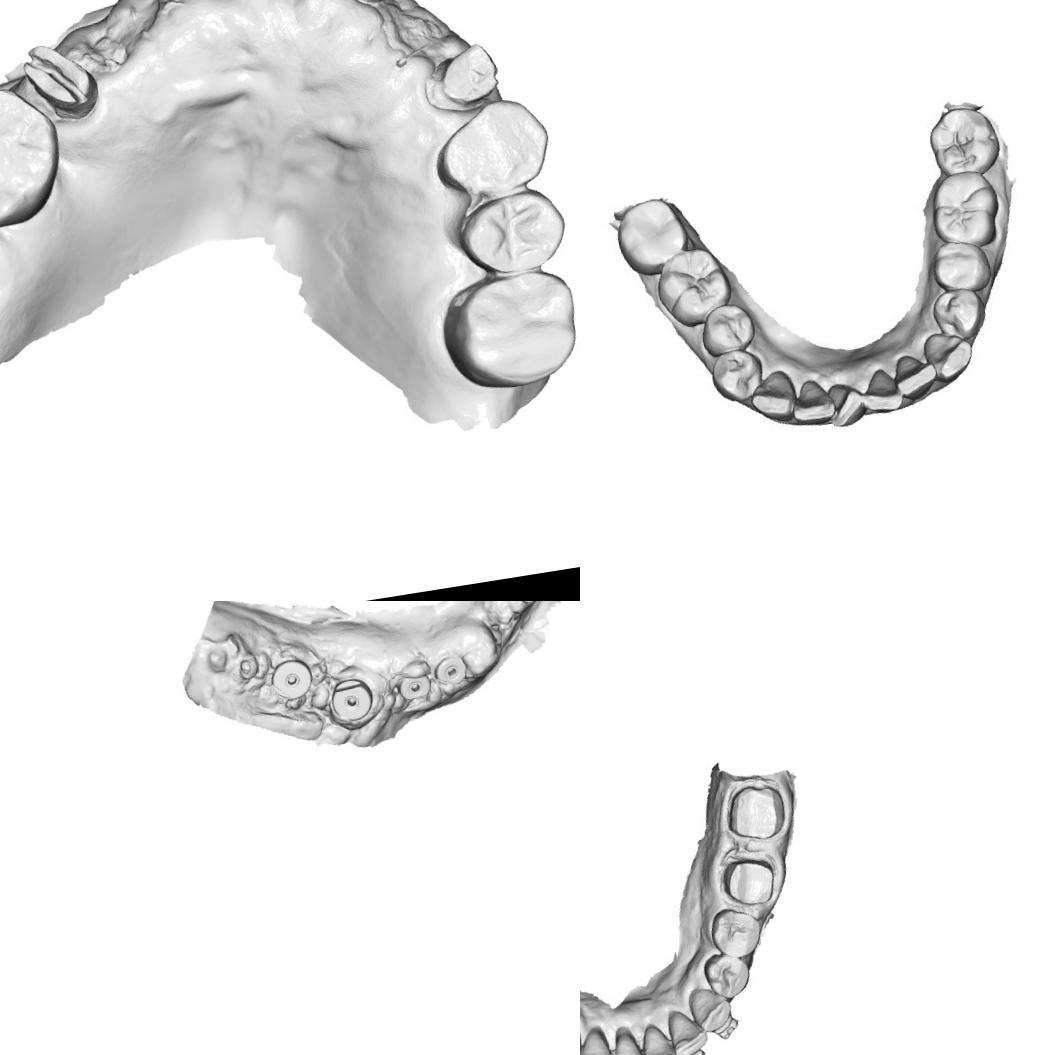canine: (918, 327, 980, 387), (746, 366, 798, 427), (684, 980, 735, 1037)
crown: (16, 33, 106, 128), (428, 38, 504, 112), (720, 780, 790, 846), (718, 851, 780, 910)
implant: (327, 676, 377, 726), (269, 656, 317, 704), (431, 649, 469, 691), (397, 668, 433, 704)
incisor: (851, 362, 910, 422), (888, 350, 942, 407), (785, 374, 837, 428), (664, 1003, 712, 1055), (822, 376, 867, 430), (636, 1018, 681, 1055), (605, 1026, 648, 1055), (580, 1022, 617, 1055)
molar: (435, 264, 580, 397), (0, 77, 72, 240), (650, 240, 738, 334), (610, 192, 694, 281), (924, 165, 1005, 254), (924, 101, 1002, 181)
premolar: (426, 92, 558, 204), (457, 186, 569, 284), (694, 297, 760, 360), (926, 234, 993, 296), (708, 343, 768, 408), (928, 284, 988, 346), (705, 902, 766, 962), (700, 948, 754, 1002)
